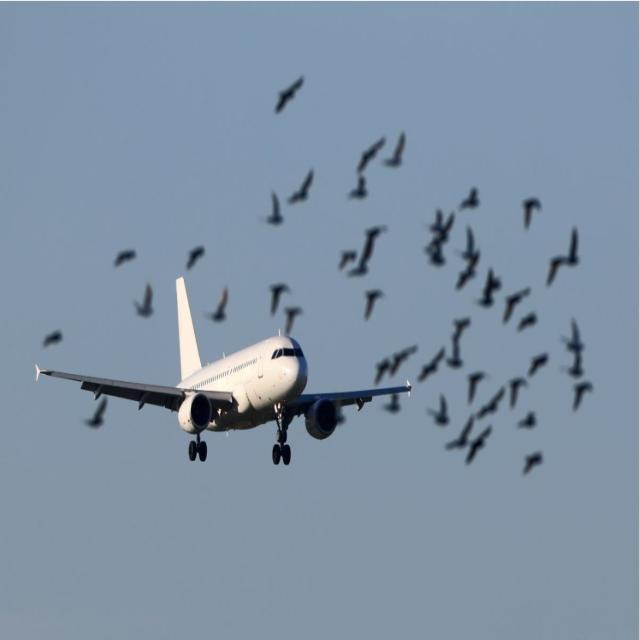bird: (548, 228, 582, 286), (270, 70, 306, 124), (356, 228, 386, 273), (130, 283, 160, 325), (200, 286, 233, 324), (286, 166, 314, 208), (354, 134, 384, 170), (262, 187, 284, 234), (182, 241, 212, 274), (470, 428, 494, 469), (559, 316, 586, 351), (389, 342, 418, 374), (425, 394, 450, 429), (478, 386, 507, 416), (360, 286, 384, 322), (570, 380, 594, 416), (38, 322, 66, 352), (520, 194, 542, 230), (518, 451, 549, 476), (446, 339, 468, 374), (503, 284, 532, 310), (420, 350, 442, 384), (450, 418, 473, 450), (386, 135, 407, 170), (112, 240, 138, 268), (456, 185, 482, 213), (346, 176, 369, 204), (266, 280, 286, 312), (482, 269, 497, 311), (424, 240, 446, 268), (562, 353, 586, 378), (508, 376, 528, 406), (464, 370, 484, 400), (445, 316, 472, 338), (516, 411, 542, 432), (384, 393, 406, 417), (526, 352, 548, 376), (462, 228, 479, 258), (458, 266, 478, 290), (372, 356, 388, 384), (516, 314, 540, 331), (287, 306, 300, 334), (428, 208, 444, 230), (338, 248, 354, 266)
